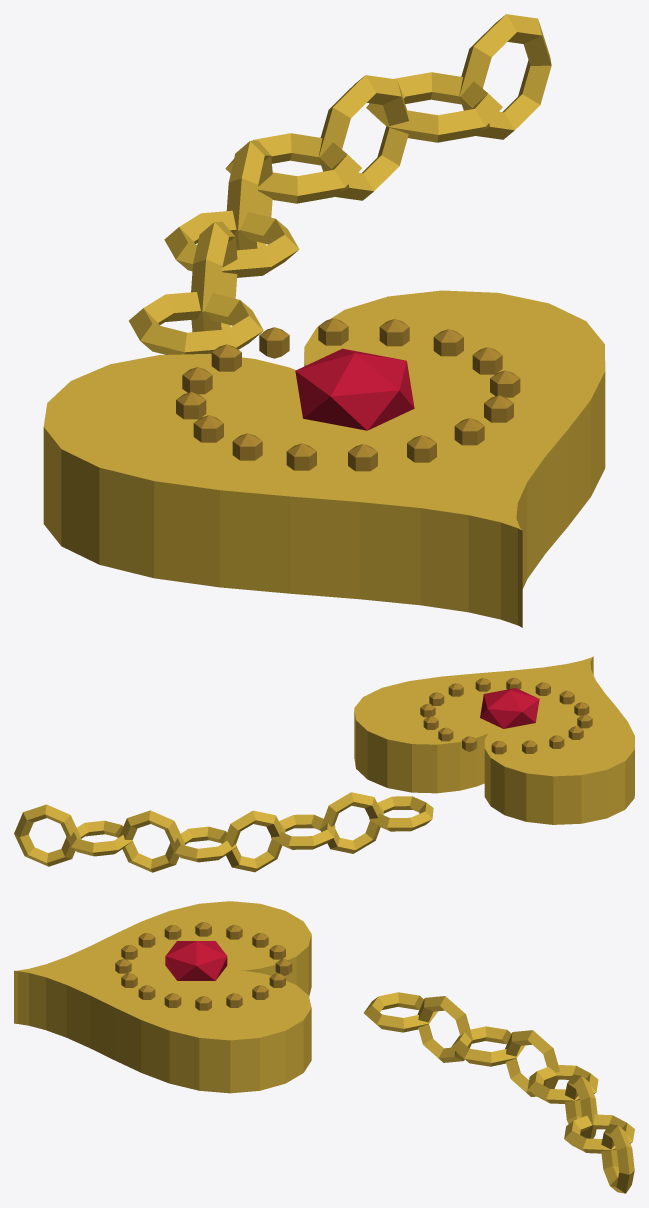
The model's file is FindLocket.glb.
3 renders of one model, top to bottom at view 1: azimuth 30°, elevation 25°; view 2: azimuth 150°, elevation 25°; view 3: azimuth 270°, elevation 25°, orthographic. The views are drawn at different scales.
Visible parts, largest first — view 1: Locket_5.001; view 2: Locket_5.001; view 3: Locket_5.001.
Boxes of the visible parts, x1,y1,x2,y2 form: Locket_5.001: [43, 14, 605, 627]; Locket_5.001: [14, 656, 634, 872]; Locket_5.001: [14, 901, 634, 1193].
Size of the model in its own units: 0.0737 by 0.0165 by 0.0851.
